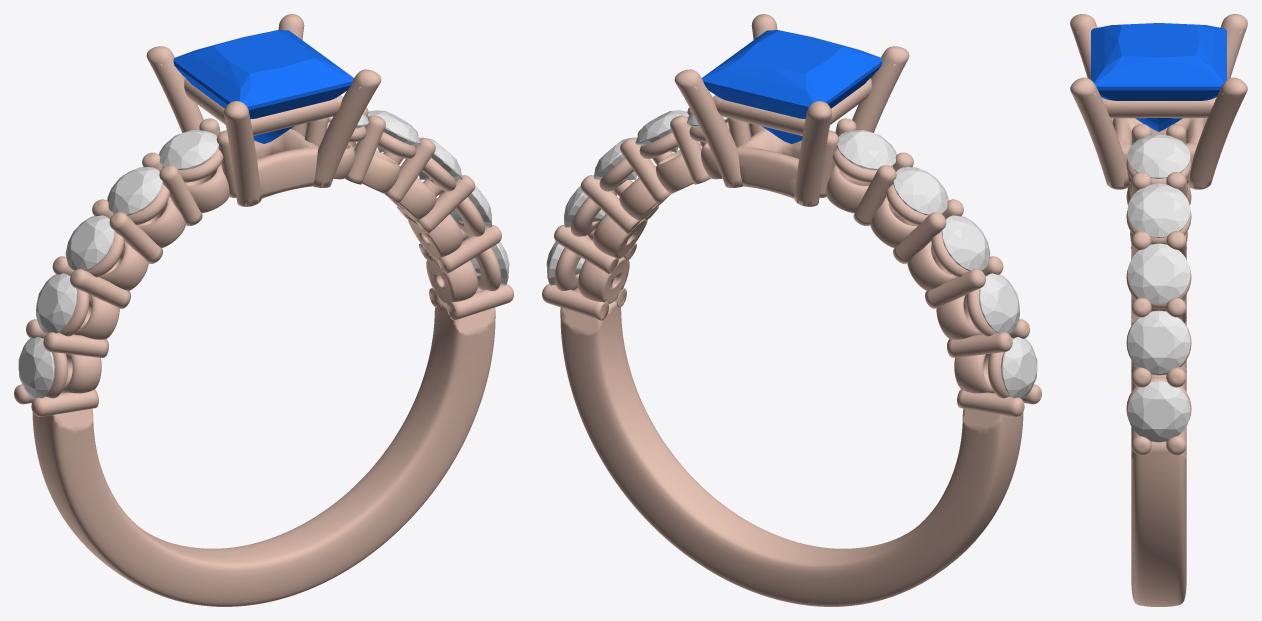
Rendered from bluesapphire-princess-rosegold-4prong-straightband-11stone.glb.
3 renders of one model, left to right at view 1: azimuth 30°, elevation 25°; view 2: azimuth 150°, elevation 25°; view 3: azimuth 270°, elevation 25°, orthographic.
Parts seen in each view (by area): view 1: metal, stone, side.002, side.003, side.001, side.004, side, side.008, side.007; view 2: metal, stone, side.002, side.003, side.001, side.004, side, side.008, side.007; view 3: metal, stone, side.006, side.005, side.007, side.008, side.009.
Boxes of the visible parts, <box> form: metal: <box>14,14,513,606</box>; stone: <box>173,30,353,143</box>; side.002: <box>65,215,114,270</box>; side.003: <box>107,167,162,215</box>; side.001: <box>36,273,76,333</box>; side.004: <box>159,130,218,170</box>; side: <box>18,337,55,398</box>; side.008: <box>366,110,420,152</box>; side.007: <box>419,137,462,179</box>; metal: <box>542,14,1041,606</box>; stone: <box>702,30,882,143</box>; side.002: <box>941,215,990,270</box>; side.003: <box>893,167,948,215</box>; side.001: <box>979,273,1019,333</box>; side.004: <box>837,130,896,170</box>; side: <box>1000,337,1037,398</box>; side.008: <box>635,110,689,152</box>; side.007: <box>593,137,636,179</box>; metal: <box>1070,14,1247,606</box>; stone: <box>1091,23,1226,131</box>; side.006: <box>1127,311,1190,373</box>; side.005: <box>1127,381,1190,442</box>; side.007: <box>1127,243,1190,304</box>; side.008: <box>1127,183,1190,237</box>; side.009: <box>1127,134,1190,178</box>.
Bounding box in the file's own units: 22 × 23.85 × 7.08.
